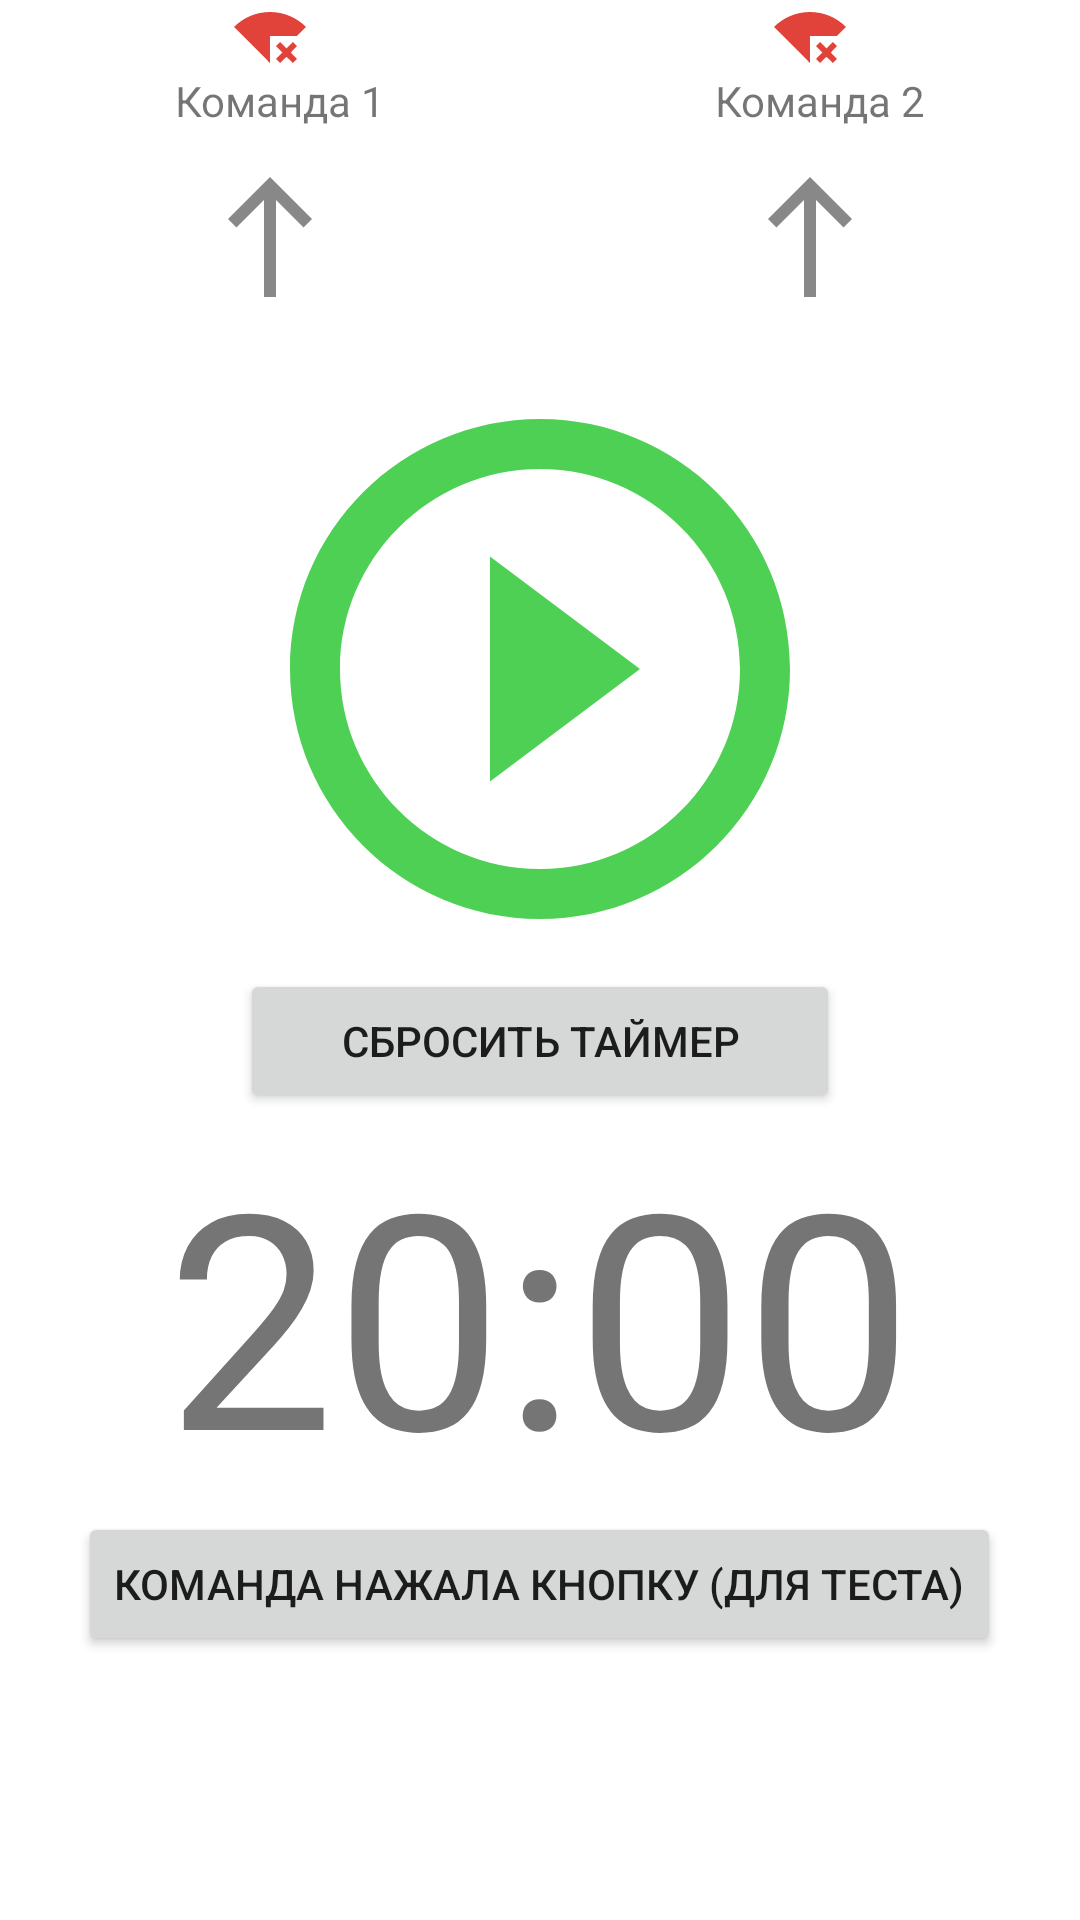

Point at icon controls on the screen. Image size 1080w x 1920h, points as (x=x, y=y).
north: (x=270, y=237), (x=810, y=237)
